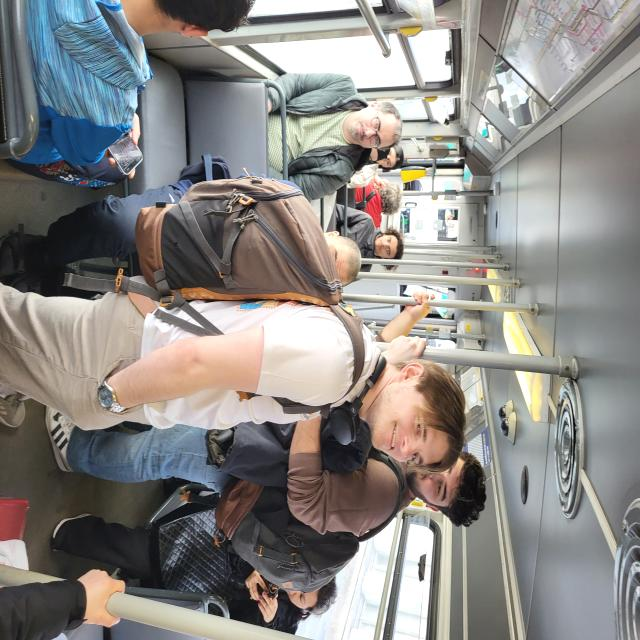asiento-libre: (198, 493, 308, 640)
